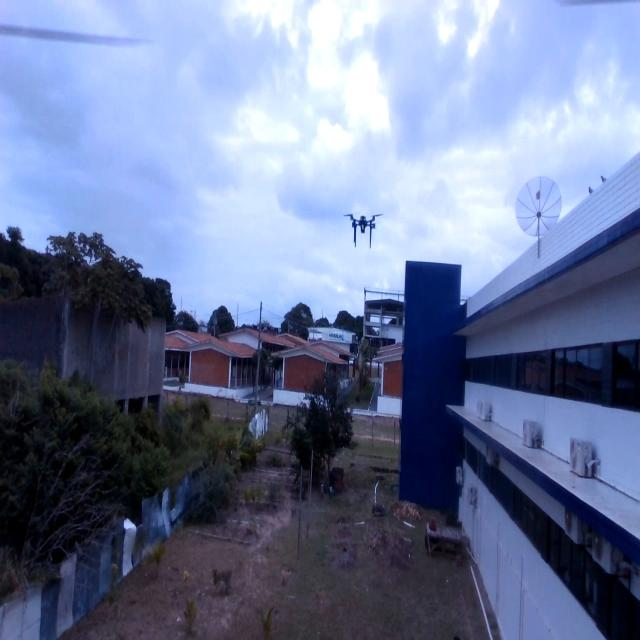-uav-: (337, 200, 388, 256)
